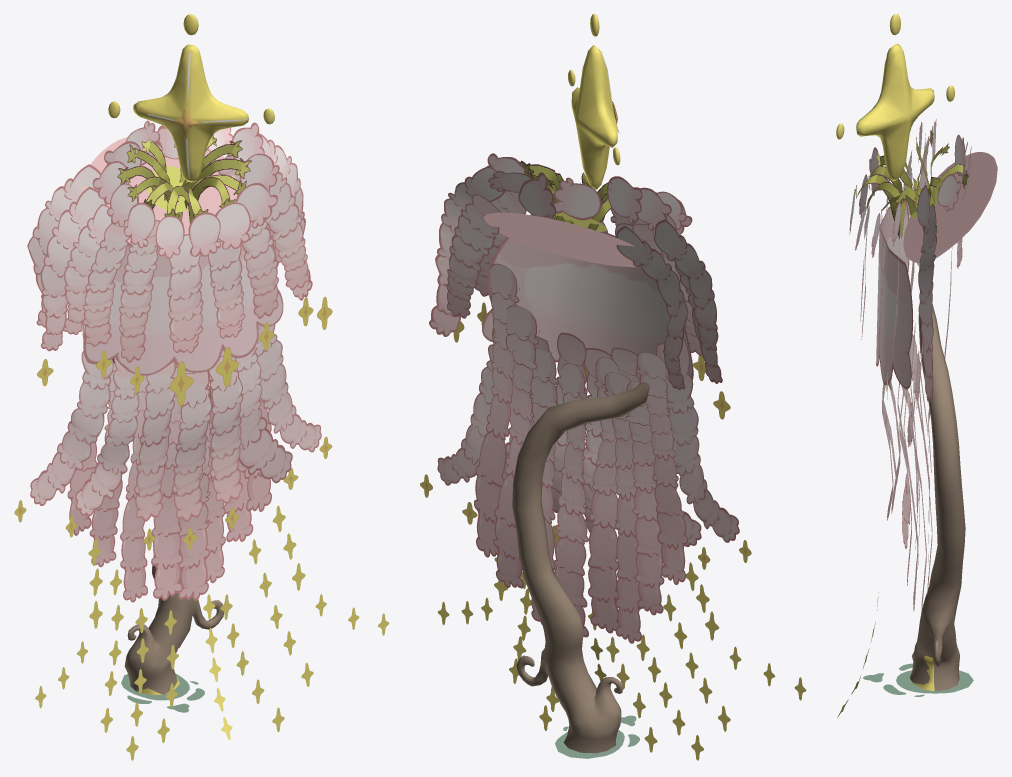
File: Mesh_Home_RF_SBC_3_SM.fbx
3 renders of one model, left to right at view 1: azimuth 30°, elevation 25°; view 2: azimuth 150°, elevation 25°; view 3: azimuth 270°, elevation 25°, orthographic. The views are drawn at different scales.
Parts seen in each view (by area): view 1: Mesh_Home_RF_SBC_3_P, Mesh_Home_RF_SBC_3; view 2: Mesh_Home_RF_SBC_3_P, Mesh_Home_RF_SBC_3; view 3: Mesh_Home_RF_SBC_3_P, Mesh_Home_RF_SBC_3.
Boxes of the visible parts, <box> form: Mesh_Home_RF_SBC_3_P: <box>14,52,389,760</box>; Mesh_Home_RF_SBC_3: <box>108,14,274,695</box>; Mesh_Home_RF_SBC_3_P: <box>420,51,806,760</box>; Mesh_Home_RF_SBC_3: <box>512,14,649,753</box>; Mesh_Home_RF_SBC_3_P: <box>837,119,997,717</box>; Mesh_Home_RF_SBC_3: <box>836,14,965,691</box>.
Size of the model in its own units: 520 by 1002 by 206.
2 materials, 2 textured.
